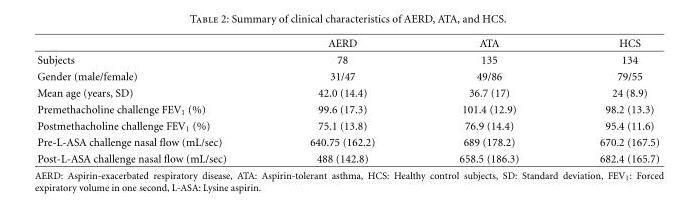table: (36, 36, 658, 164)
table column: (36, 36, 267, 164), (267, 36, 416, 164), (416, 36, 558, 164), (558, 36, 658, 164)
table column header: (36, 36, 658, 51)
table row: (36, 67, 658, 84), (36, 100, 658, 117), (36, 133, 658, 150), (36, 51, 658, 67), (36, 84, 658, 100), (36, 117, 658, 133), (36, 36, 658, 51), (36, 150, 658, 164)
